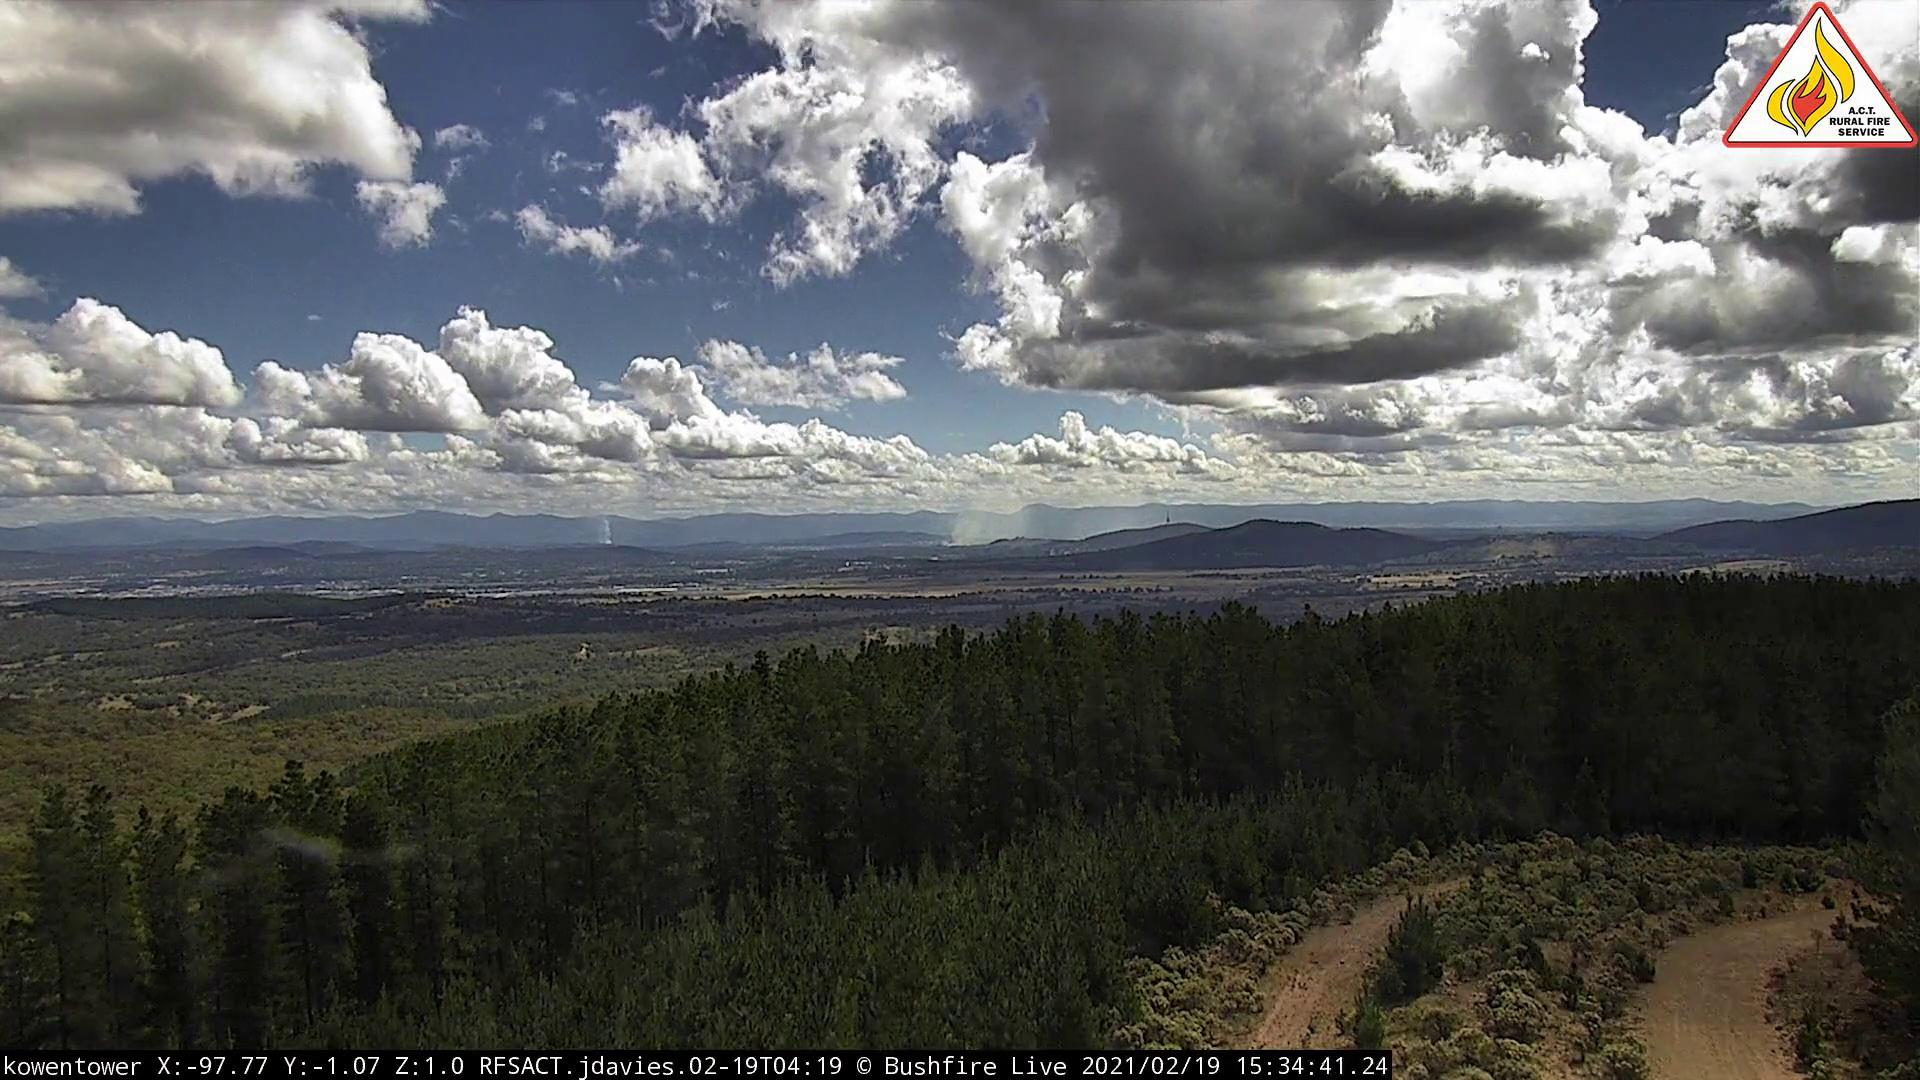Smoke: (945, 489, 1043, 553), (599, 526, 620, 553)
